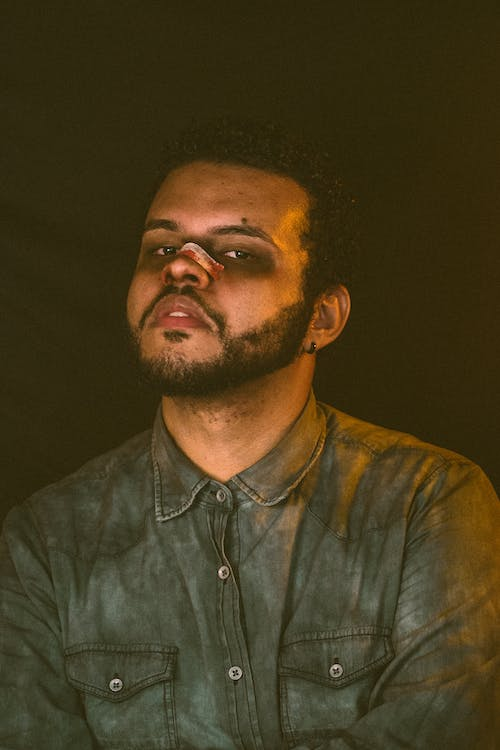blood: (160, 240, 229, 292)
